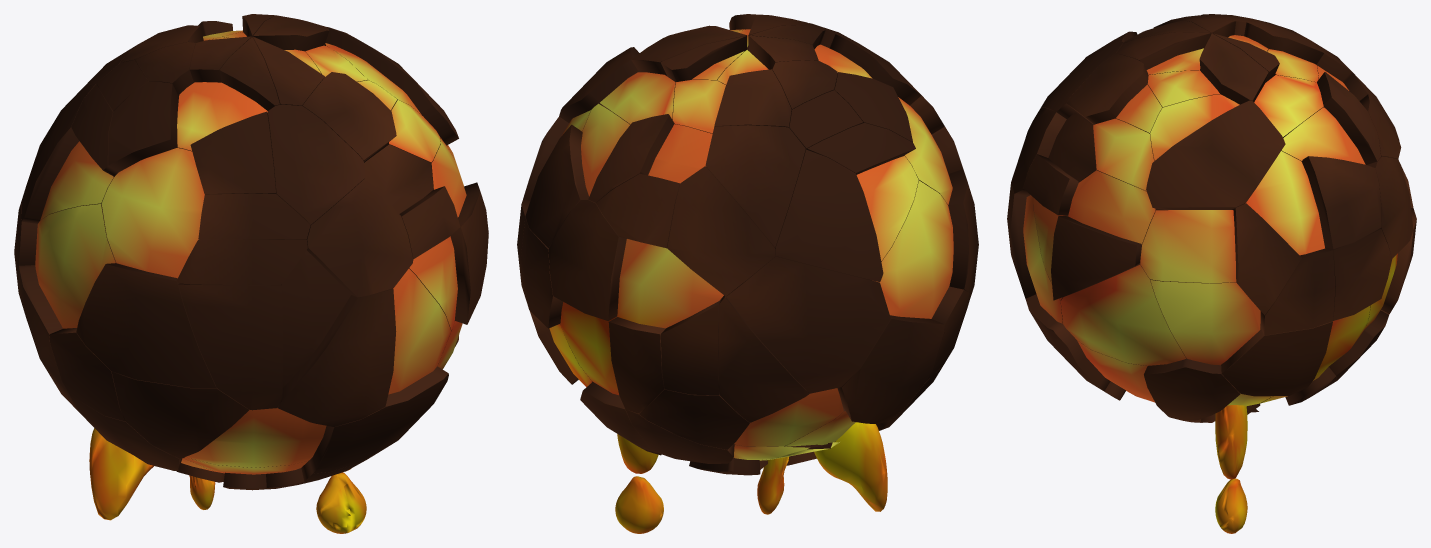
The model's file is FogoSultur.fbx.
3 views of the same model, side by side, from view 1: azimuth 30°, elevation 25°; view 2: azimuth 150°, elevation 25°; view 3: azimuth 270°, elevation 25° (orthographic). The views are drawn at different scales.
Visible parts, largest first — view 1: FogoSultur; view 2: FogoSultur; view 3: FogoSultur.
Part boxes in pixels (bbox=[...]): FogoSultur: bbox=[14, 14, 488, 533]; FogoSultur: bbox=[517, 14, 978, 533]; FogoSultur: bbox=[1007, 14, 1416, 533].
Size of the model in its own units: 128 by 160 by 130.
